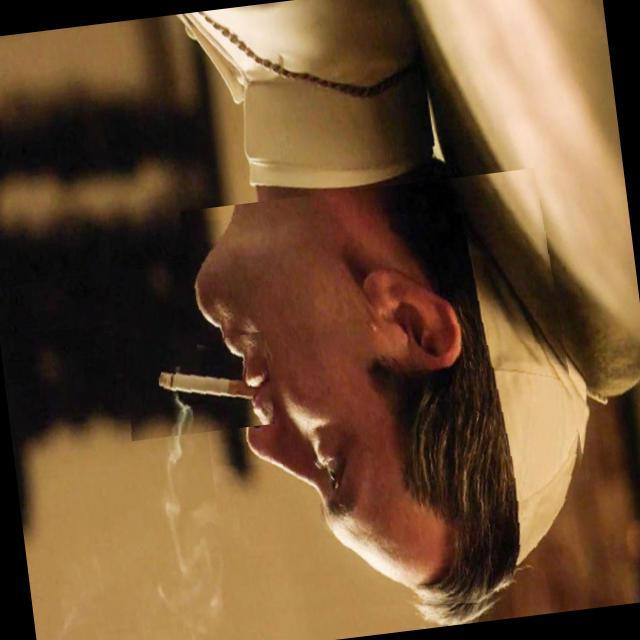cigarette: (120, 331, 275, 442)
